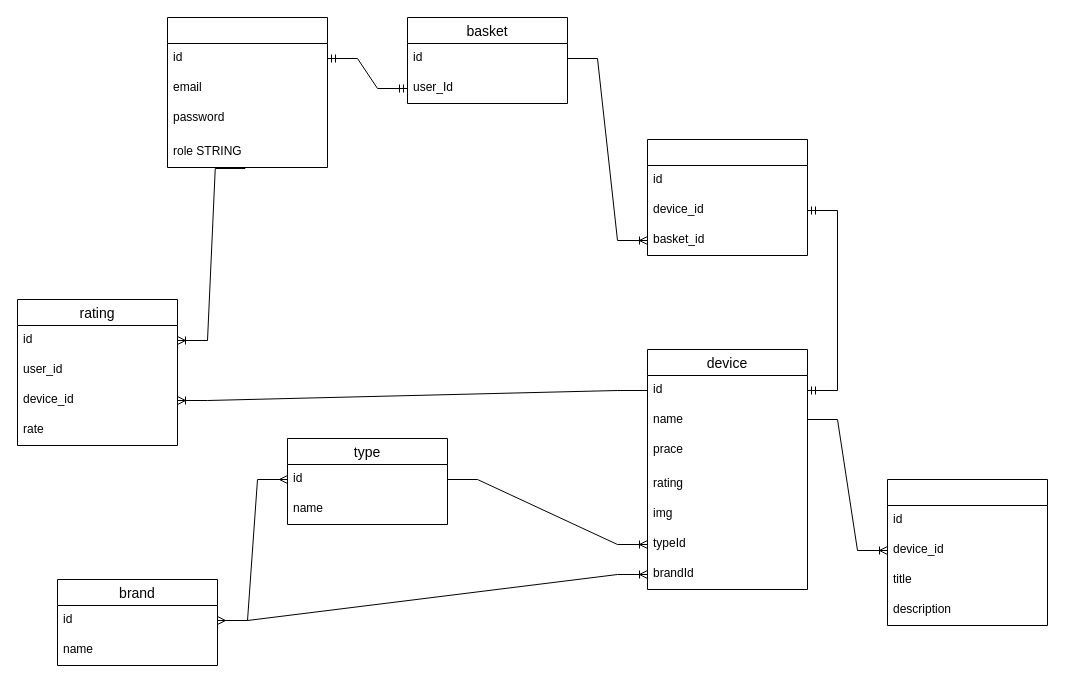
This 1065x686 diagram has some shape labels left out. The shapes that lost their labels are listed below. From the top down, each one's box as (x1, y1, x2, y2) in pixels, then its label:
(166, 16, 328, 168): user
(646, 138, 808, 256): basket_device
(886, 478, 1048, 626): device_info
